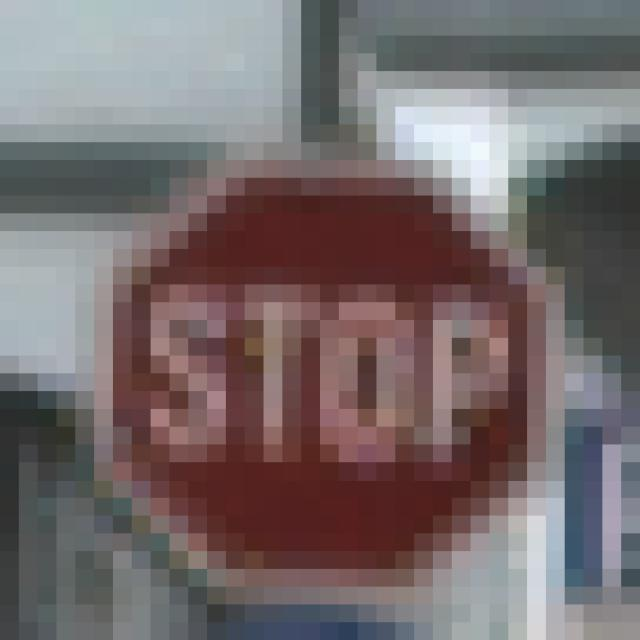STOP: (95, 108, 547, 552)
